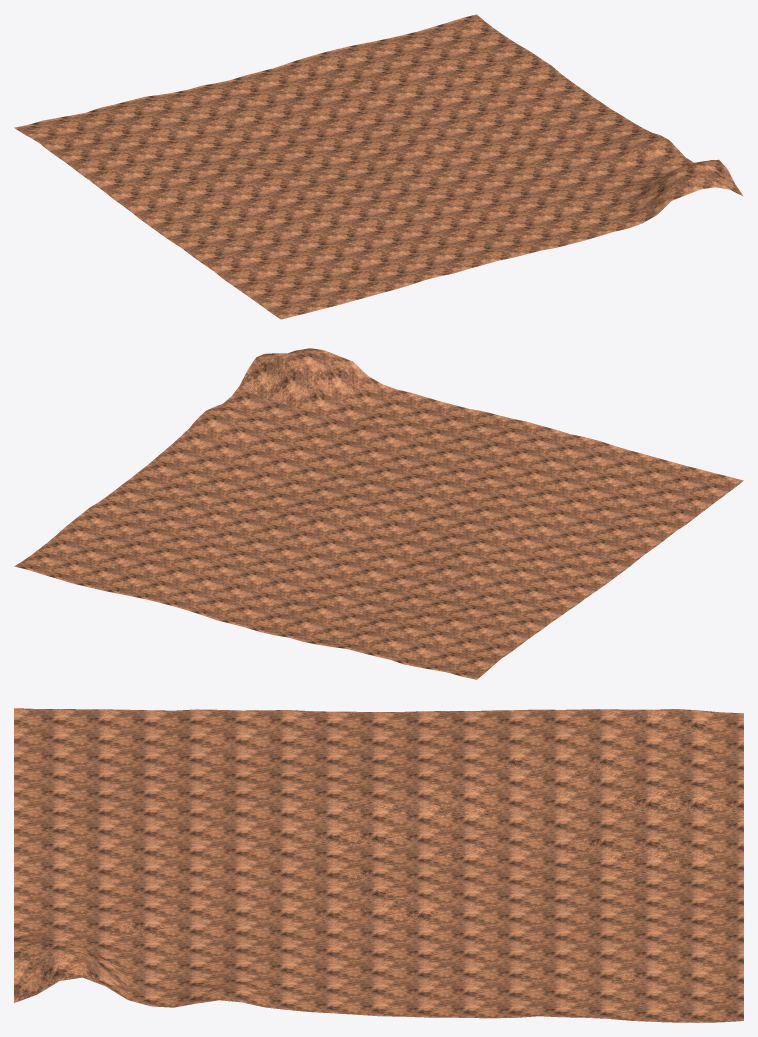
The model's file is terrain_00_07.dae.
The picture shows the model from 3 angles, top to bottom: view 1: azimuth 30°, elevation 25°; view 2: azimuth 150°, elevation 25°; view 3: azimuth 270°, elevation 25°; orthographic projection. The views are drawn at different scales.
Parts seen in each view (by area): view 1: terrain_00_07-node; view 2: terrain_00_07-node; view 3: terrain_00_07-node.
Part boxes in pixels (x1,y1,x2,y2): terrain_00_07-node: (14, 14, 743, 319); terrain_00_07-node: (14, 348, 743, 679); terrain_00_07-node: (14, 708, 743, 1022).
Size of the model in its own units: 128 by 128 by 11.11.
Materials: 1 (1 with a texture image).
